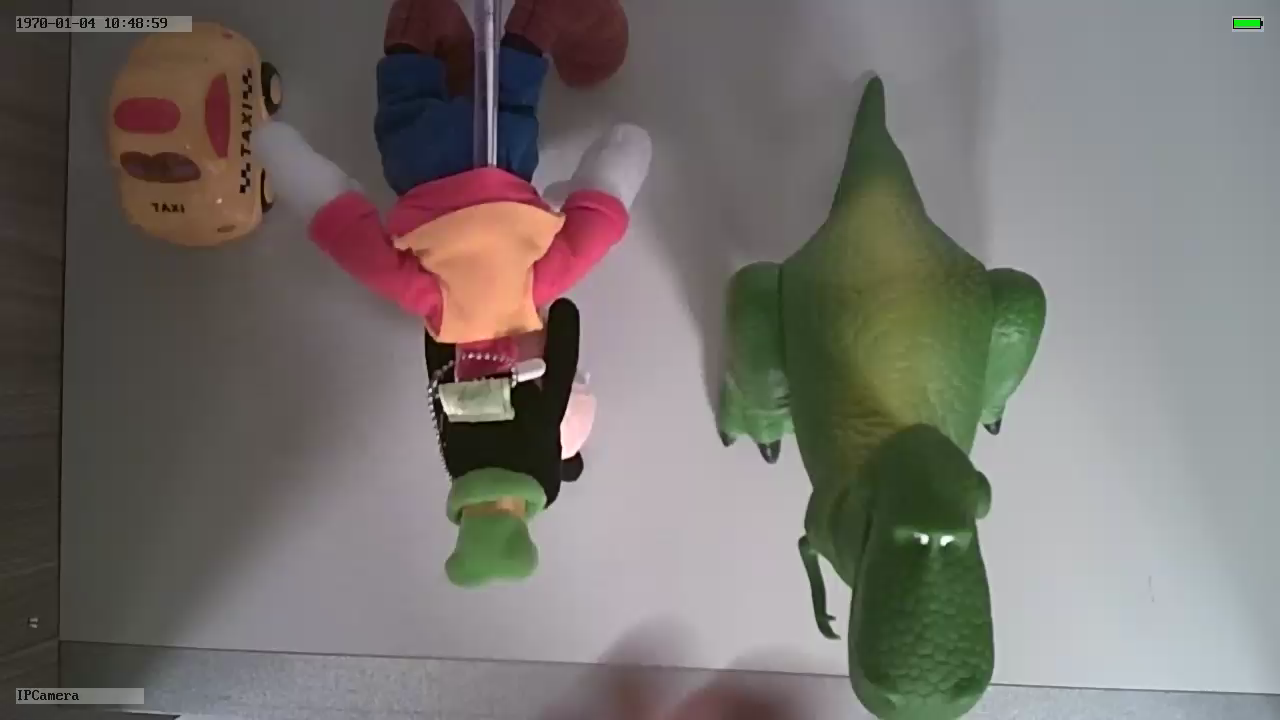goofy: (261, 118, 664, 582)
